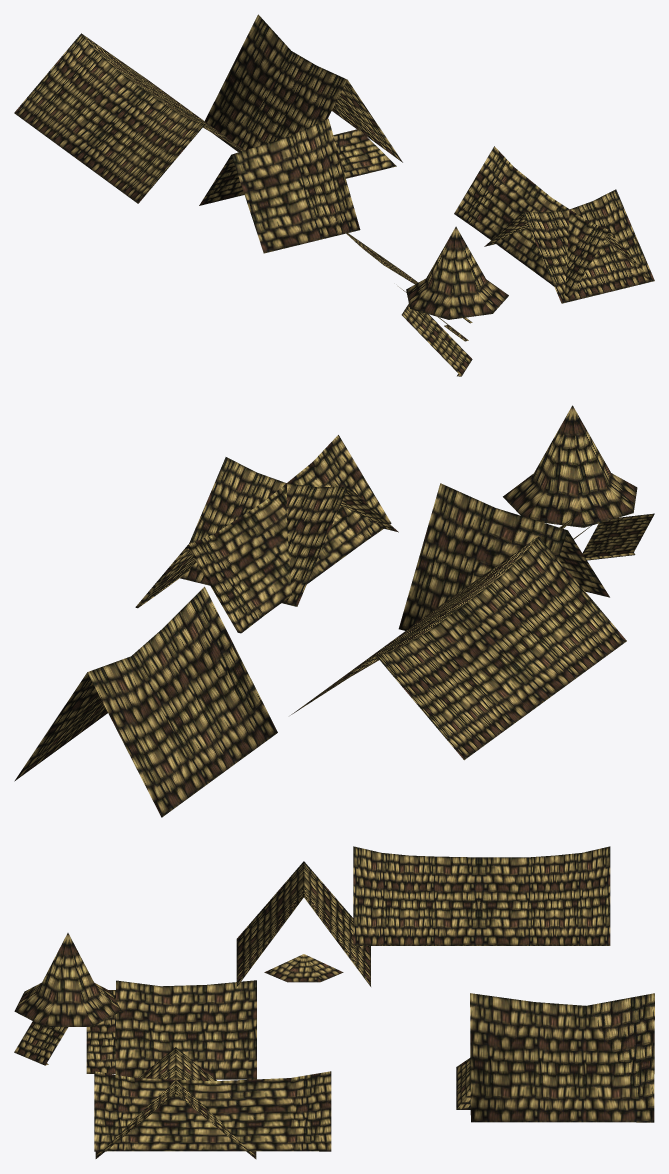
The model's file is LAKETOWN_EXTERIOR_PS_LT_PLANE2938.fbx.
3 renders of one model, top to bottom at view 1: azimuth 30°, elevation 25°; view 2: azimuth 150°, elevation 25°; view 3: azimuth 270°, elevation 25°, orthographic. The views are drawn at different scales.
Visible parts, largest first — view 1: LAKETOWN_EXTERIOR_PS_LT_PLANE2938; view 2: LAKETOWN_EXTERIOR_PS_LT_PLANE2938; view 3: LAKETOWN_EXTERIOR_PS_LT_PLANE2938.
Boxes of the visible parts, box(x1,y1,x2,y2) form: LAKETOWN_EXTERIOR_PS_LT_PLANE2938: box(14, 14, 654, 376); LAKETOWN_EXTERIOR_PS_LT_PLANE2938: box(14, 405, 654, 817); LAKETOWN_EXTERIOR_PS_LT_PLANE2938: box(14, 846, 654, 1159).
Size of the model in its own units: 206993 by 78083 by 283651.
1 material, 1 textured.
